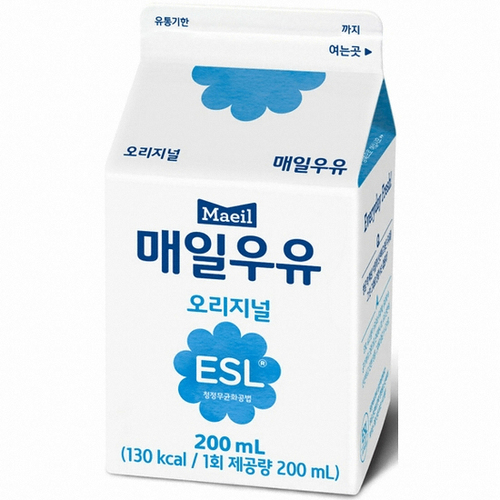milk: (104, 5, 393, 498)
